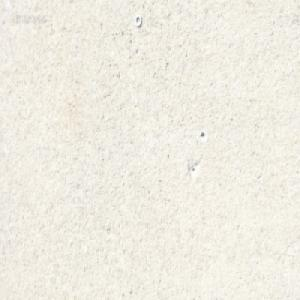Washer: (134, 14, 141, 28)
